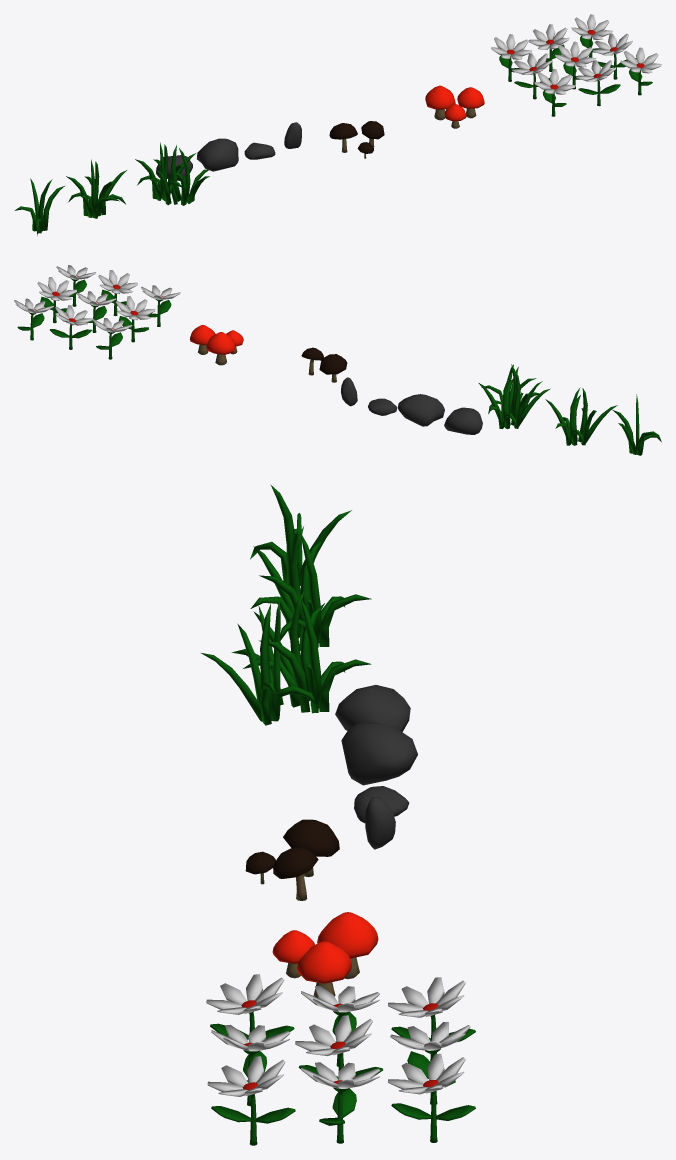
File: Grass++.obj
3 renders of one model, top to bottom at view 1: azimuth 30°, elevation 25°; view 2: azimuth 150°, elevation 25°; view 3: azimuth 270°, elevation 25°, orthographic. The views are drawn at different scales.
Size of the model in its own units: 1.91 by 0.1696 by 0.3711.
